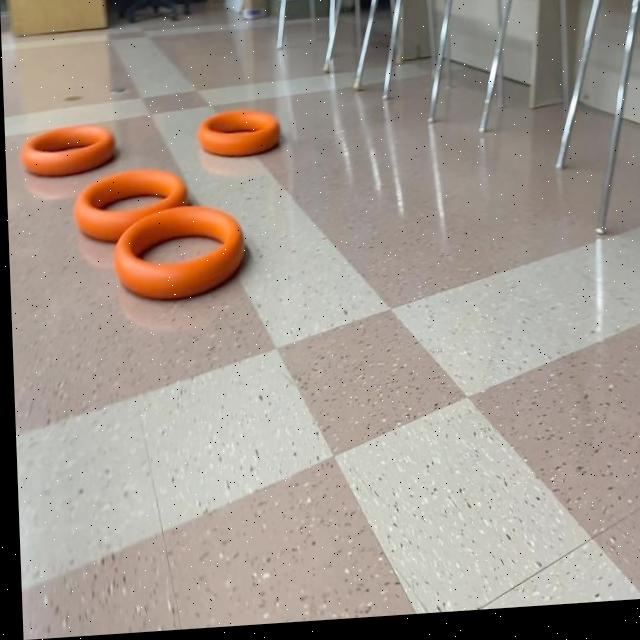note: (110, 205, 245, 303), (71, 169, 187, 247), (19, 121, 115, 183), (198, 111, 281, 162)
